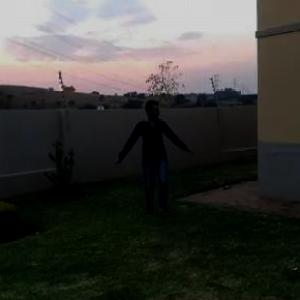land: (108, 103, 202, 233)
